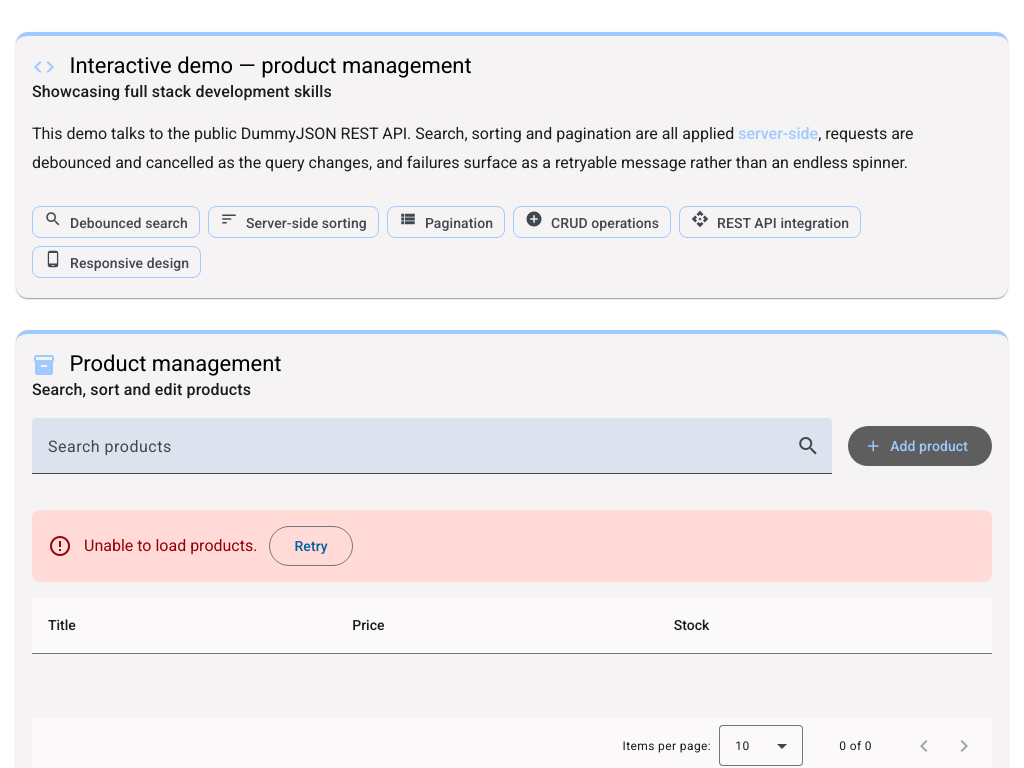
DemoComponent › refetches when the error message is retried
Step 1. Click the button "Retry" → x=311, y=546, box [269,526,353,566]
Wait 350 ms
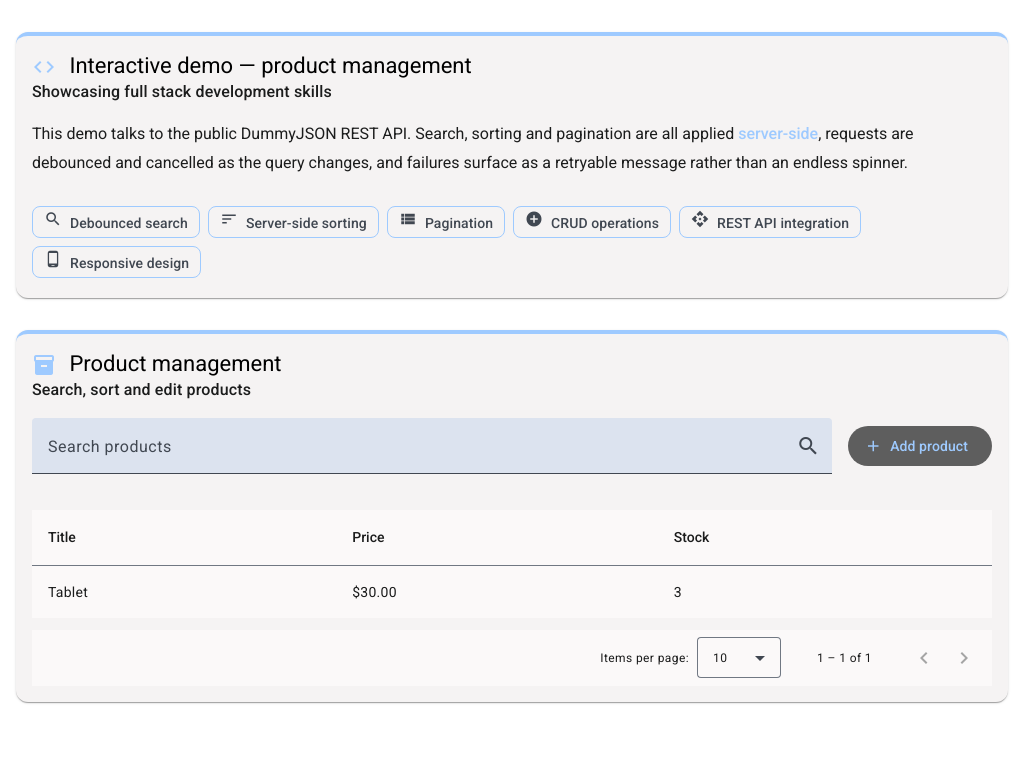
Expected: the message "Unable to load products. Retry" is gone
